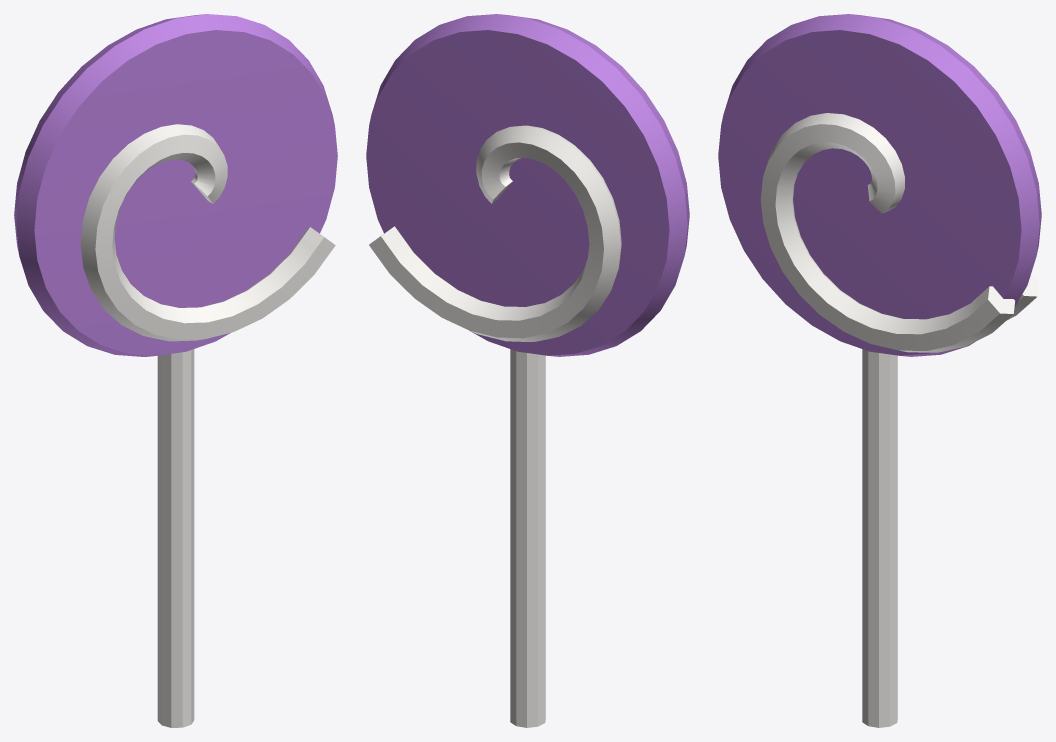
Rendered from Lollipop_Swirl.fbx.
3 views of the same model, side by side, from view 1: azimuth 30°, elevation 25°; view 2: azimuth 150°, elevation 25°; view 3: azimuth 330°, elevation 25° (orthographic).
Visible parts, largest first — view 1: Lollipop_Swirl; view 2: Lollipop_Swirl; view 3: Lollipop_Swirl.
Boxes of the visible parts, x1,y1,x2,y2 form: Lollipop_Swirl: (14, 14, 337, 727); Lollipop_Swirl: (366, 14, 689, 727); Lollipop_Swirl: (718, 14, 1041, 727).
Size of the model in its own units: 4 by 8.4 by 0.9154.
